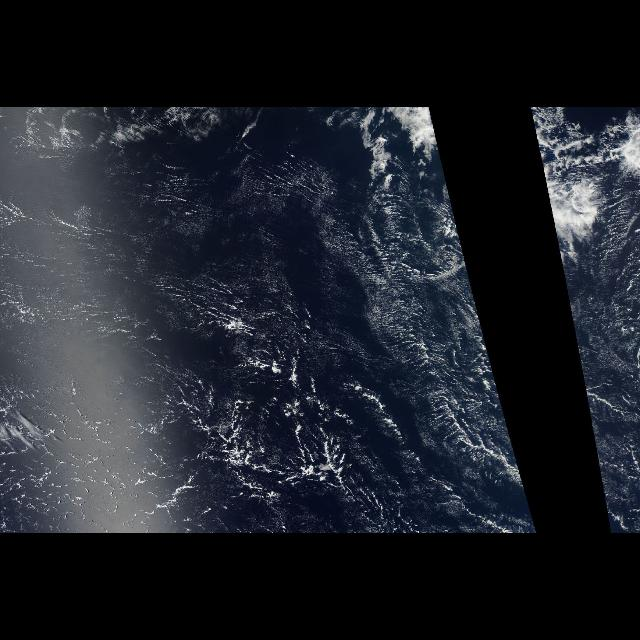Gravel: (4, 455, 160, 527)
Sugar: (1, 148, 482, 532)
